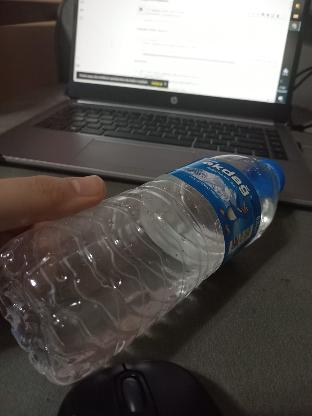Plastic Bottle: (0, 147, 294, 383)
